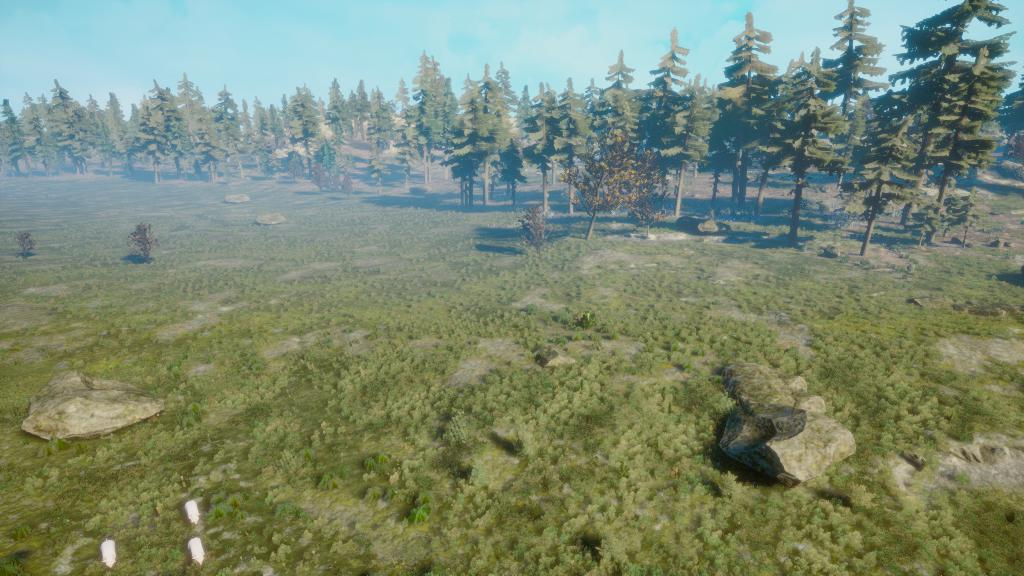pig: (188, 534, 208, 569), (98, 536, 119, 569), (183, 498, 203, 524)
